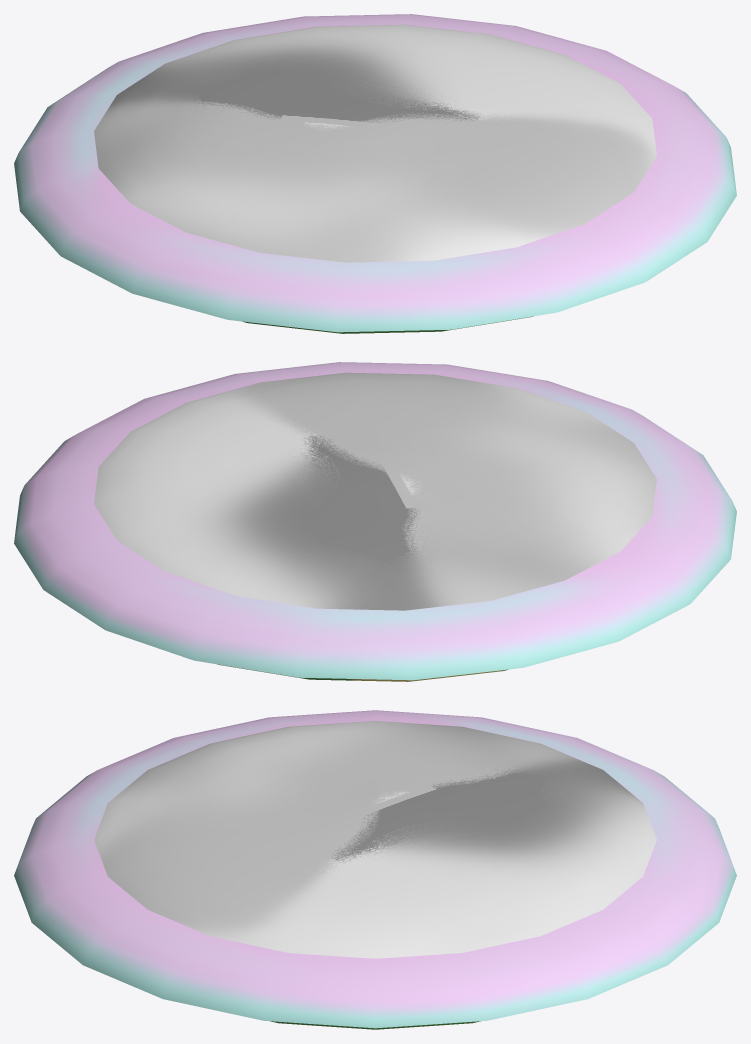
Rendered from PLANET, OZONLAAG, WOLKEN.fbx.
3 views of the same model, one above another, from view 1: azimuth 30°, elevation 25°; view 2: azimuth 150°, elevation 25°; view 3: azimuth 270°, elevation 25° (orthographic).
Visible parts, largest first — view 1: pSphere2, pSphere3; view 2: pSphere2, pSphere3; view 3: pSphere2, pSphere3.
Part boxes in pixels (x1,y1,x2,y2): pSphere2: (94,24,656,262); pSphere3: (14,14,736,332); pSphere2: (94,372,656,610); pSphere3: (14,362,736,680); pSphere2: (94,721,656,958); pSphere3: (14,710,736,1028).
Bounding box in the file's own units: 33.12 × 4.13 × 33.12.
